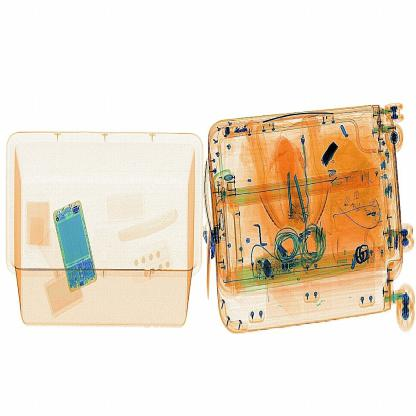scissors: (320, 142, 343, 171)
